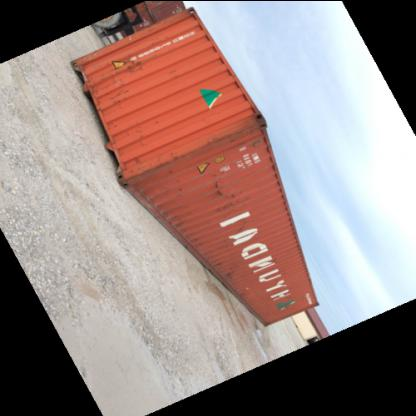Damage: (201, 109, 259, 156), (120, 150, 184, 188), (207, 174, 244, 218), (156, 202, 199, 236), (94, 78, 136, 106), (212, 256, 247, 280), (114, 51, 146, 75)
